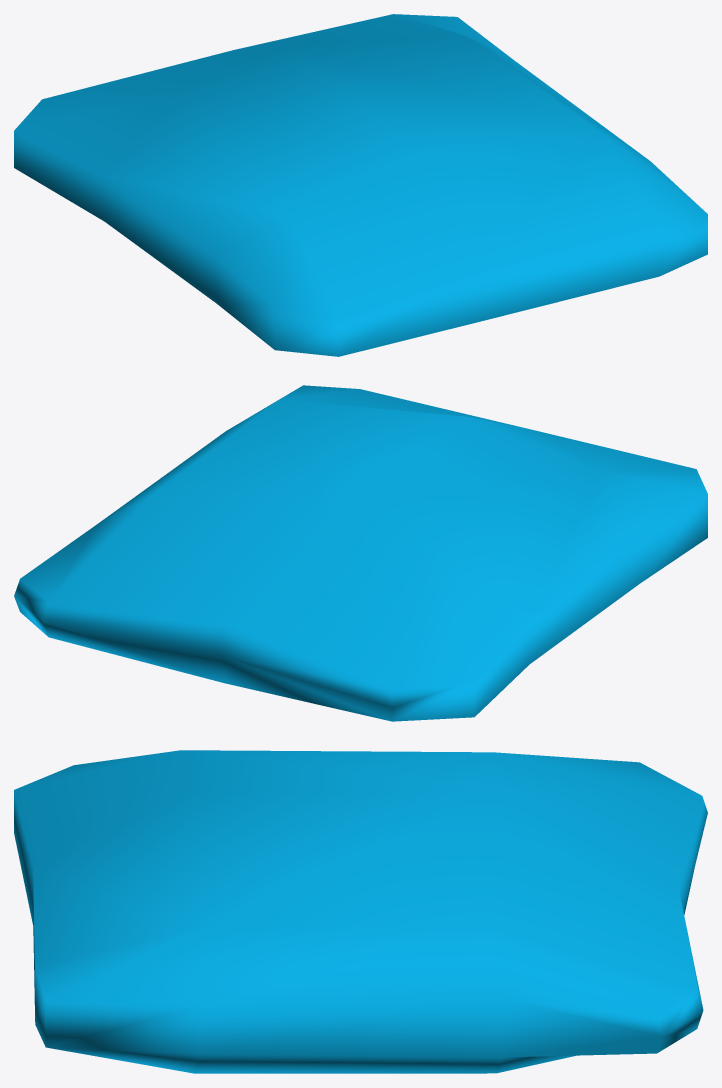
Rendered from Pillow_03_Lod1.fbx.
The picture shows the model from 3 angles, top to bottom: view 1: azimuth 30°, elevation 25°; view 2: azimuth 150°, elevation 25°; view 3: azimuth 270°, elevation 25°; orthographic projection. The views are drawn at different scales.
Parts seen in each view (by area): view 1: Pillow_03_Lod1; view 2: Pillow_03_Lod1; view 3: Pillow_03_Lod1.
Boxes of the visible parts, x1,y1,x2,y2 form: Pillow_03_Lod1: (14, 14, 707, 356); Pillow_03_Lod1: (14, 385, 707, 721); Pillow_03_Lod1: (14, 750, 707, 1073).
Size of the model in its own units: 49.16 by 19.89 by 56.98.
